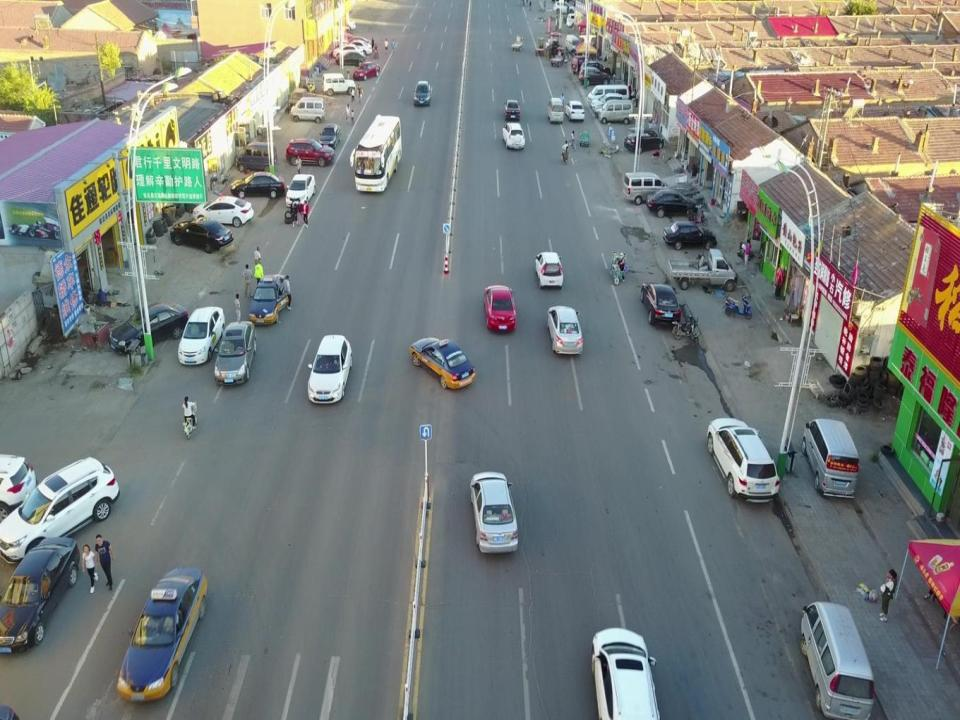bus: (350, 115, 402, 193)
car: (2, 456, 120, 564), (116, 565, 208, 702), (0, 537, 80, 654), (590, 626, 659, 720), (707, 418, 780, 504), (468, 471, 520, 555), (109, 301, 188, 356), (410, 336, 477, 391), (307, 333, 353, 404), (177, 306, 225, 365), (214, 321, 256, 387), (248, 273, 290, 327), (170, 218, 234, 253), (192, 195, 254, 227), (547, 304, 584, 356), (640, 282, 681, 328), (663, 221, 718, 250), (230, 171, 286, 199), (483, 285, 517, 331), (646, 190, 698, 218), (285, 138, 336, 166), (534, 252, 564, 288), (285, 173, 316, 207), (624, 129, 664, 154), (321, 72, 356, 96), (318, 123, 342, 150), (502, 122, 525, 150), (591, 92, 623, 112), (578, 67, 611, 85), (352, 61, 380, 81), (594, 102, 631, 117), (342, 38, 372, 56), (579, 61, 611, 76), (413, 81, 431, 106), (335, 51, 367, 65), (332, 44, 364, 58), (343, 36, 372, 51), (564, 100, 584, 120), (504, 99, 520, 120), (566, 12, 586, 28), (553, 0, 575, 13)
truck: (667, 248, 738, 290)
van: (799, 600, 877, 720), (800, 417, 860, 500), (622, 171, 670, 205), (235, 141, 277, 172), (288, 97, 324, 123), (586, 84, 629, 104), (598, 100, 633, 123), (547, 97, 564, 125), (288, 88, 308, 111), (571, 56, 594, 74), (565, 34, 580, 54)
